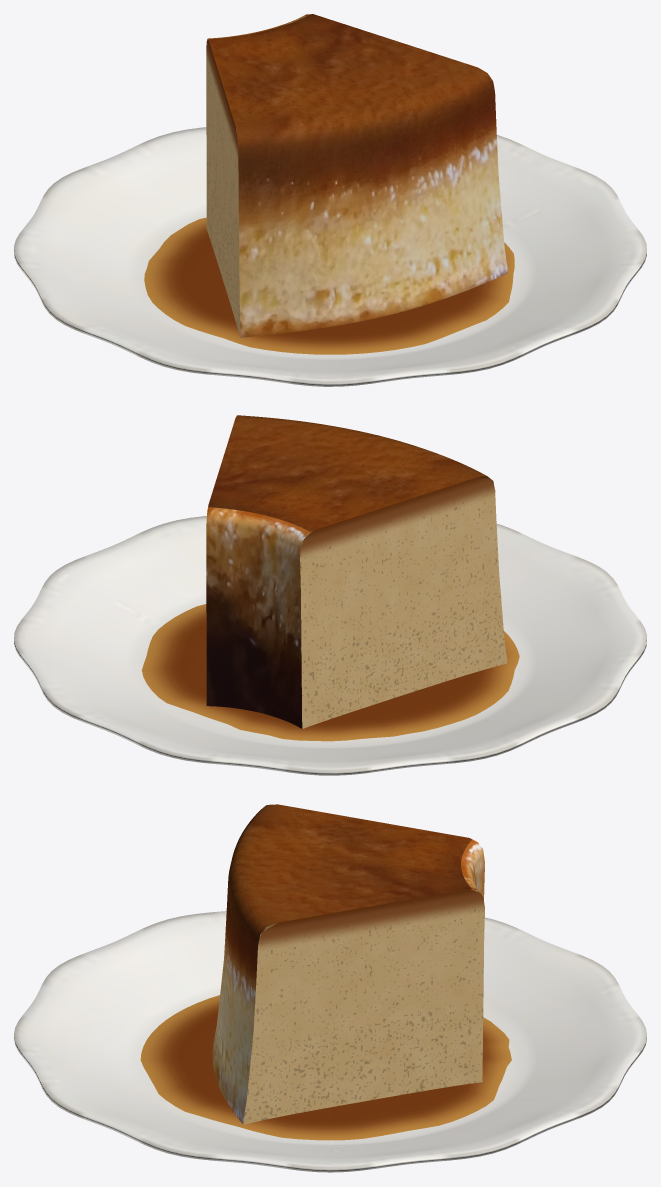
File: pudim-slice.glb
The picture shows the model from 3 angles, top to bottom: view 1: azimuth 30°, elevation 25°; view 2: azimuth 150°, elevation 25°; view 3: azimuth 270°, elevation 25°; orthographic projection.
Visible parts, largest first — view 1: satin, ceramic, gloss; view 2: satin, ceramic, gloss; view 3: satin, ceramic, gloss.
Boxes of the visible parts, <box> form: satin: <box>206,14,507,337</box>; ceramic: <box>14,127,646,386</box>; gloss: <box>144,217,514,354</box>; satin: <box>206,415,507,728</box>; ceramic: <box>14,516,646,775</box>; gloss: <box>141,604,519,741</box>; satin: <box>212,804,484,1124</box>; ceramic: <box>14,911,646,1172</box>; gloss: <box>140,995,511,1140</box>.
Size of the model in its own units: 0.18 by 0.0675 by 0.18.
Materials: 3 (3 with a texture image).
